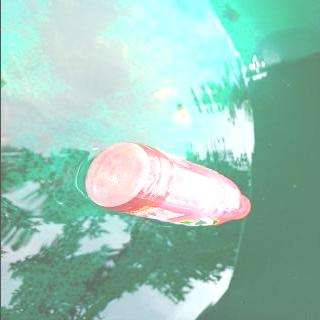bottle: (80, 137, 256, 229)
